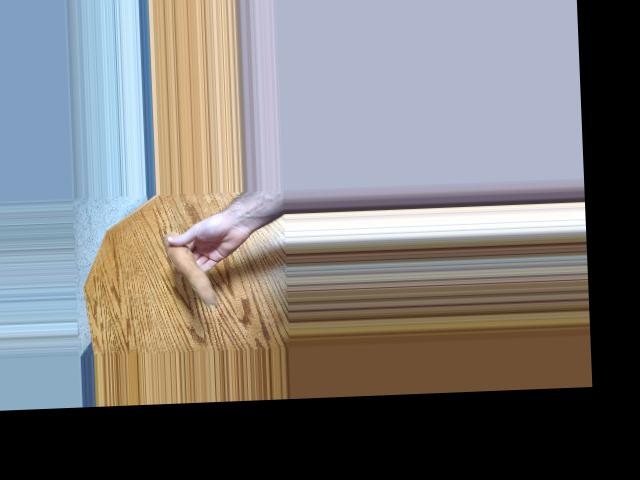sweet_potato: (163, 227, 217, 306)
